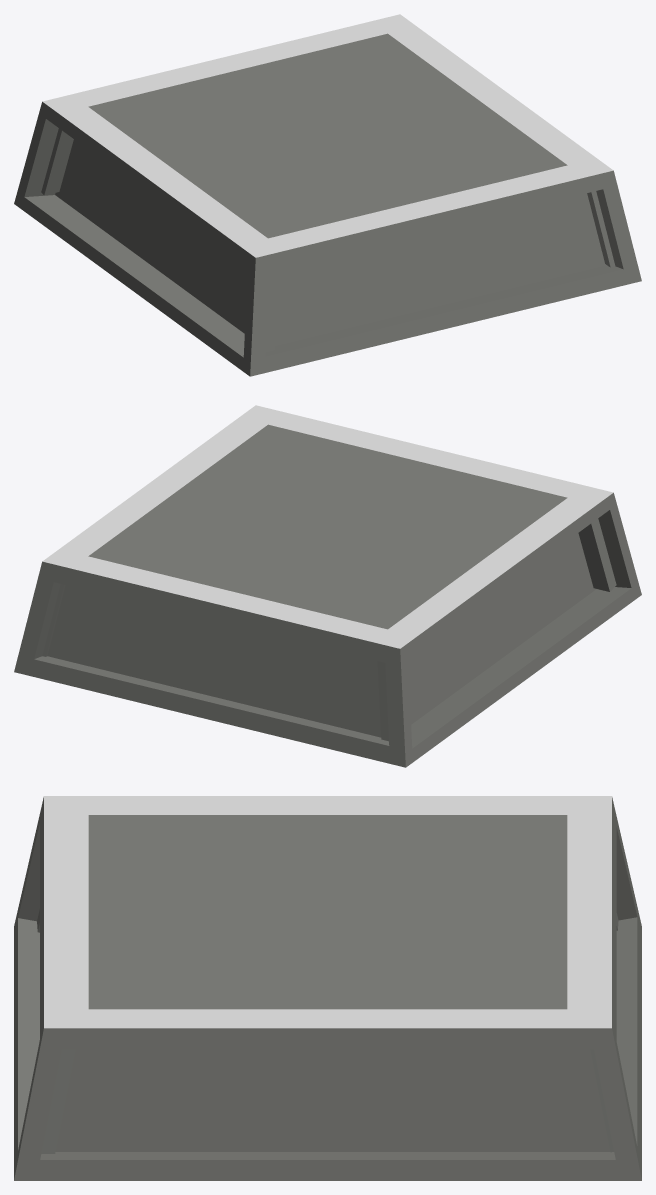
File: Assembler1.fbx
3 views of the same model, one above another, from view 1: azimuth 30°, elevation 25°; view 2: azimuth 150°, elevation 25°; view 3: azimuth 270°, elevation 25° (orthographic). The views are drawn at different scales.
Parts seen in each view (by area): view 1: Cube.001; view 2: Cube.001; view 3: Cube.001.
Boxes of the visible parts, x1=… form: Cube.001: x1=14, y1=14, x2=641, y2=376; Cube.001: x1=14, y1=405, x2=641, y2=767; Cube.001: x1=14, y1=796, x2=641, y2=1180.
Size of the model in its own units: 51.16 by 13.28 by 53.39.
